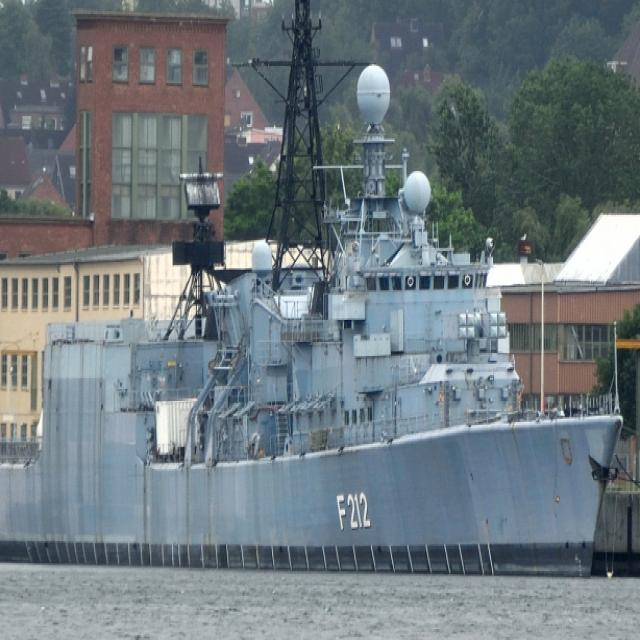Fragata: (1, 1, 635, 585)
